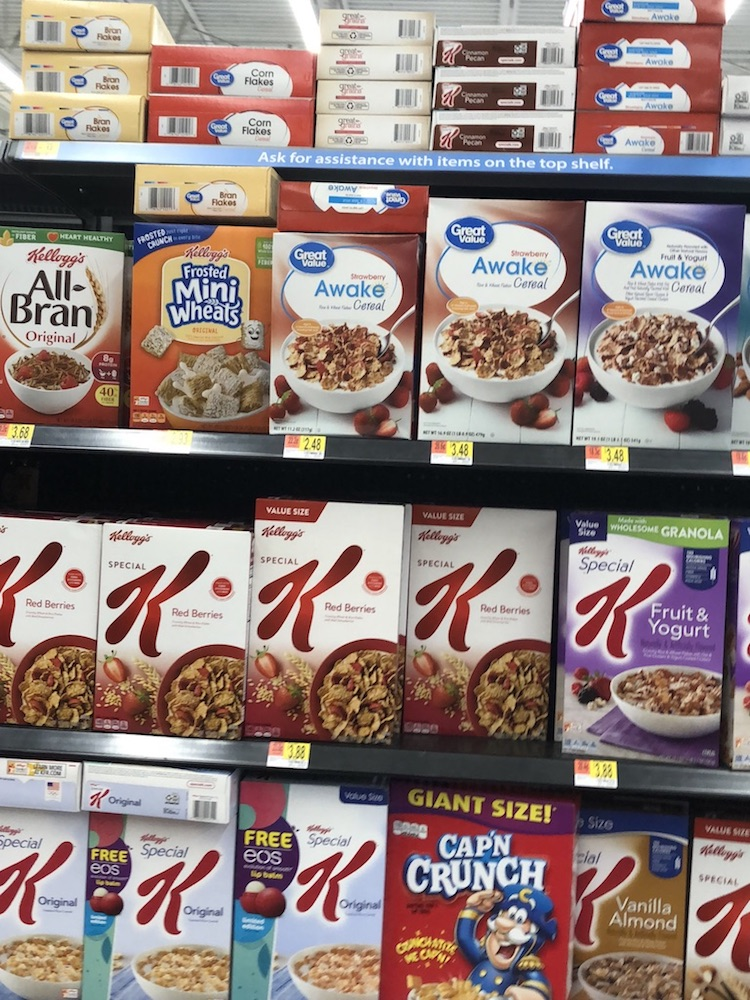Frosted Mini Original -9295869: (136, 225, 270, 435)
